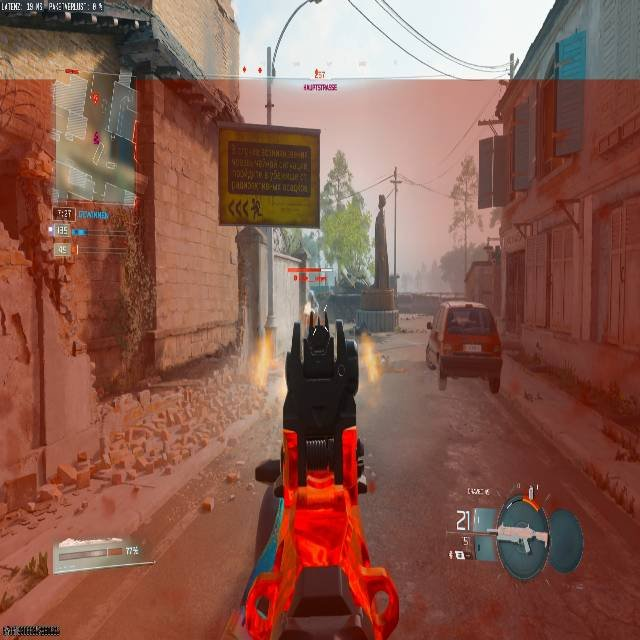player: (306, 287, 322, 316)
